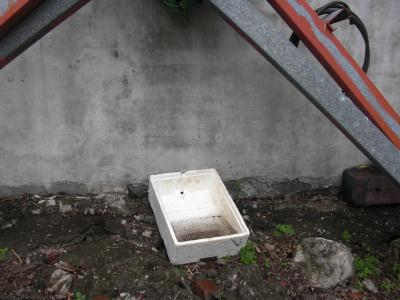styrofoam: (145, 166, 251, 268)
